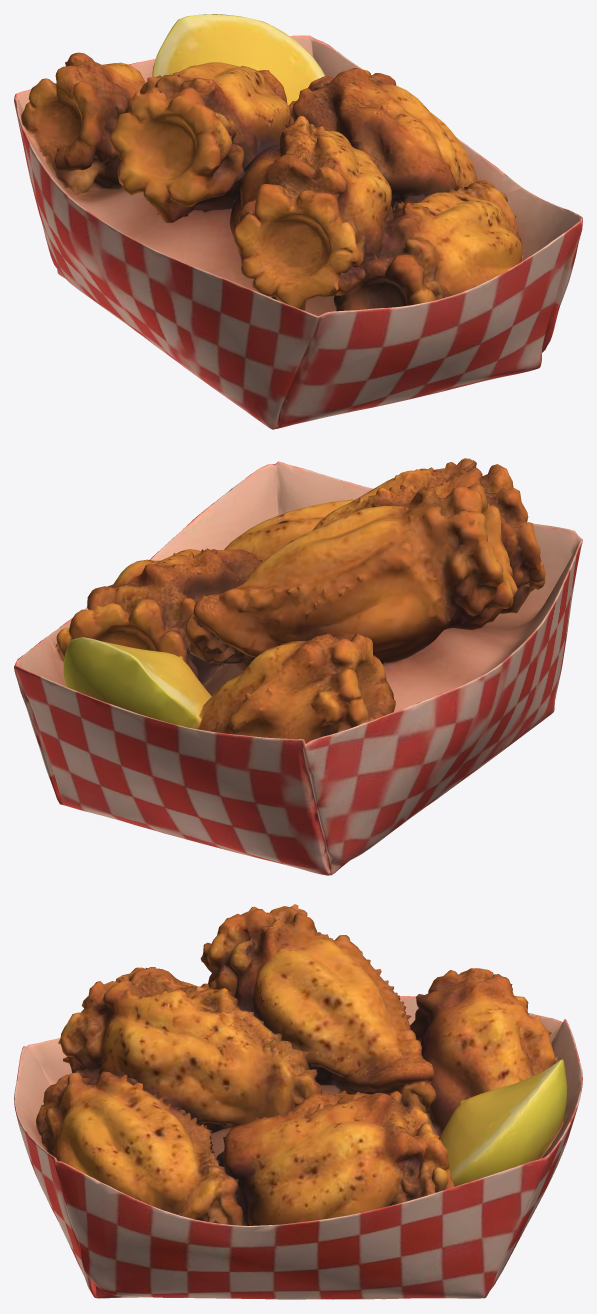
Rendered from p_wings.glb.
3 renders of one model, top to bottom at view 1: azimuth 30°, elevation 25°; view 2: azimuth 150°, elevation 25°; view 3: azimuth 270°, elevation 25°, orthographic. The views are drawn at different scales.
Visible parts, largest first — view 1: tripo_node_b0d411bf-428c-4af8-9a91-002b113b9677; view 2: tripo_node_b0d411bf-428c-4af8-9a91-002b113b9677; view 3: tripo_node_b0d411bf-428c-4af8-9a91-002b113b9677.
Boxes of the visible parts, x1,y1,x2,y2 form: tripo_node_b0d411bf-428c-4af8-9a91-002b113b9677: [14, 14, 582, 429]; tripo_node_b0d411bf-428c-4af8-9a91-002b113b9677: [14, 458, 582, 875]; tripo_node_b0d411bf-428c-4af8-9a91-002b113b9677: [14, 904, 582, 1299].
Size of the model in its own units: 0.7689 by 0.5169 by 1.
1 material, 1 textured.
